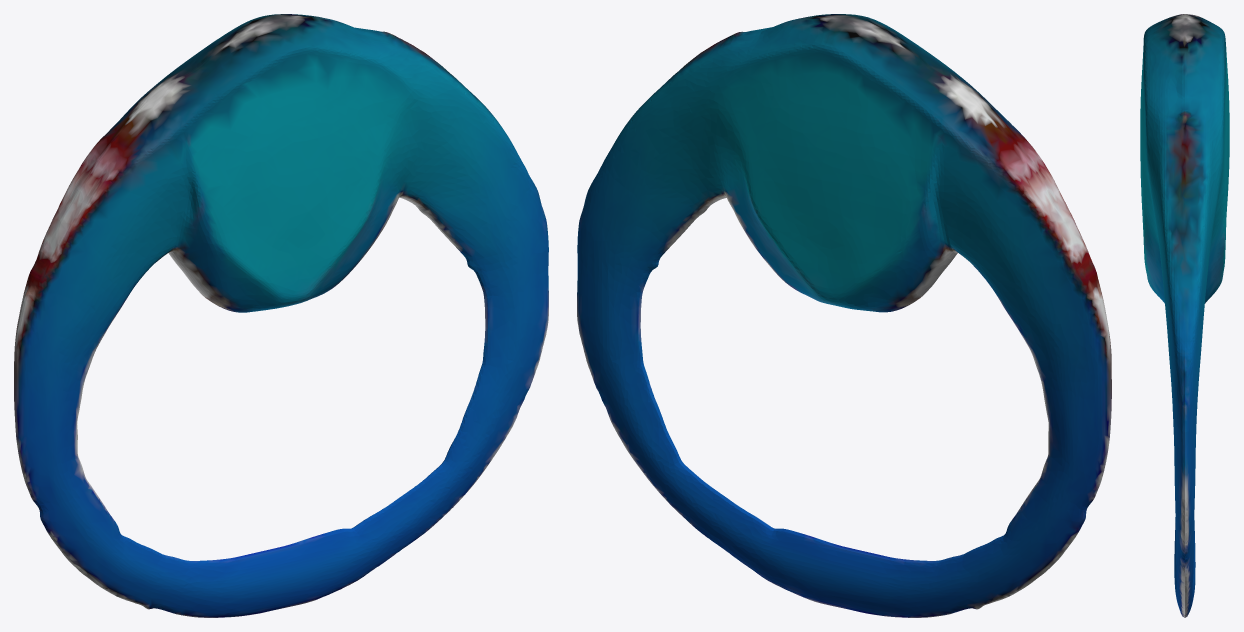
File: ring_drain.glb
3 views of the same model, side by side, from view 1: azimuth 30°, elevation 25°; view 2: azimuth 150°, elevation 25°; view 3: azimuth 270°, elevation 25° (orthographic). The views are drawn at different scales.
Visible parts, largest first — view 1: geometry_0; view 2: geometry_0; view 3: geometry_0.
Part boxes in pixels (x1=…): geometry_0: x1=14, y1=14, x2=548, y2=617; geometry_0: x1=577, y1=14, x2=1111, y2=617; geometry_0: x1=1140, y1=14, x2=1229, y2=617.
Bounding box in the file's own units: 0.5 × 0.5263 × 0.076.
